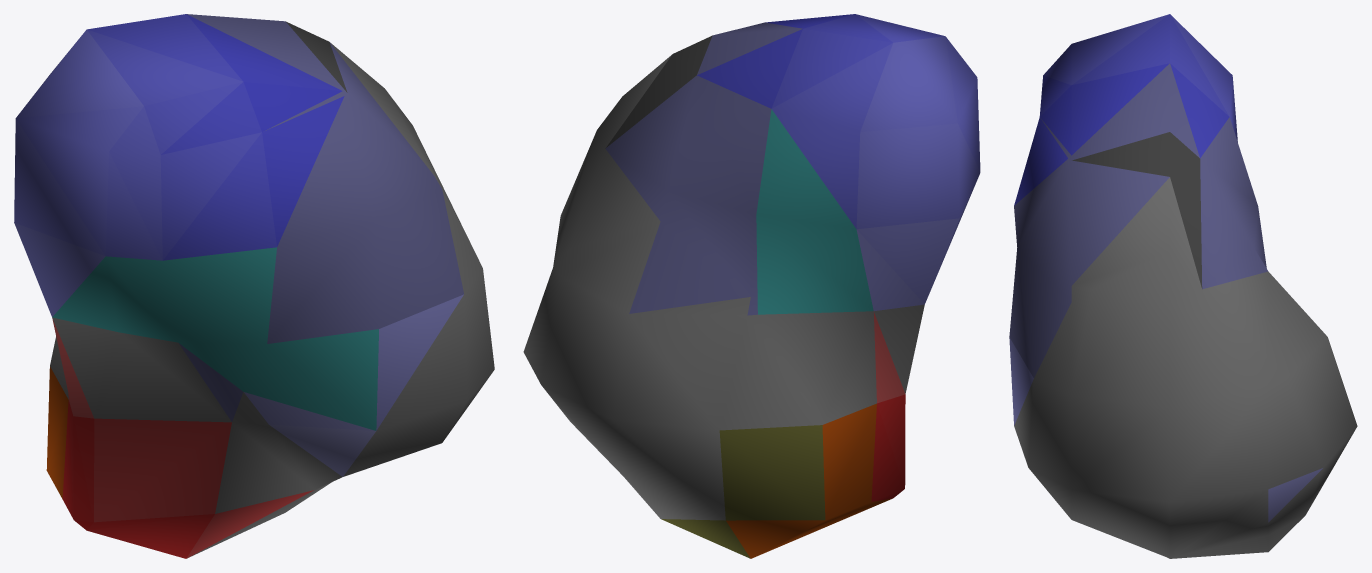
File: cytosine_surface_lowres.obj
The picture shows the model from 3 angles, left to right: view 1: azimuth 30°, elevation 25°; view 2: azimuth 150°, elevation 25°; view 3: azimuth 270°, elevation 25°; orthographic projection. The views are drawn at different scales.
Visible parts, largest first — view 1: vmd_mol5_rep0; view 2: vmd_mol5_rep0; view 3: vmd_mol5_rep0.
Boxes of the visible parts, left/top/right/bottom form: vmd_mol5_rep0: left=14, top=14, right=494, bottom=558; vmd_mol5_rep0: left=523, top=14, right=980, bottom=558; vmd_mol5_rep0: left=1009, top=14, right=1357, bottom=558.
Bounding box in the file's own units: 1.5 × 1.75 × 1.16.
